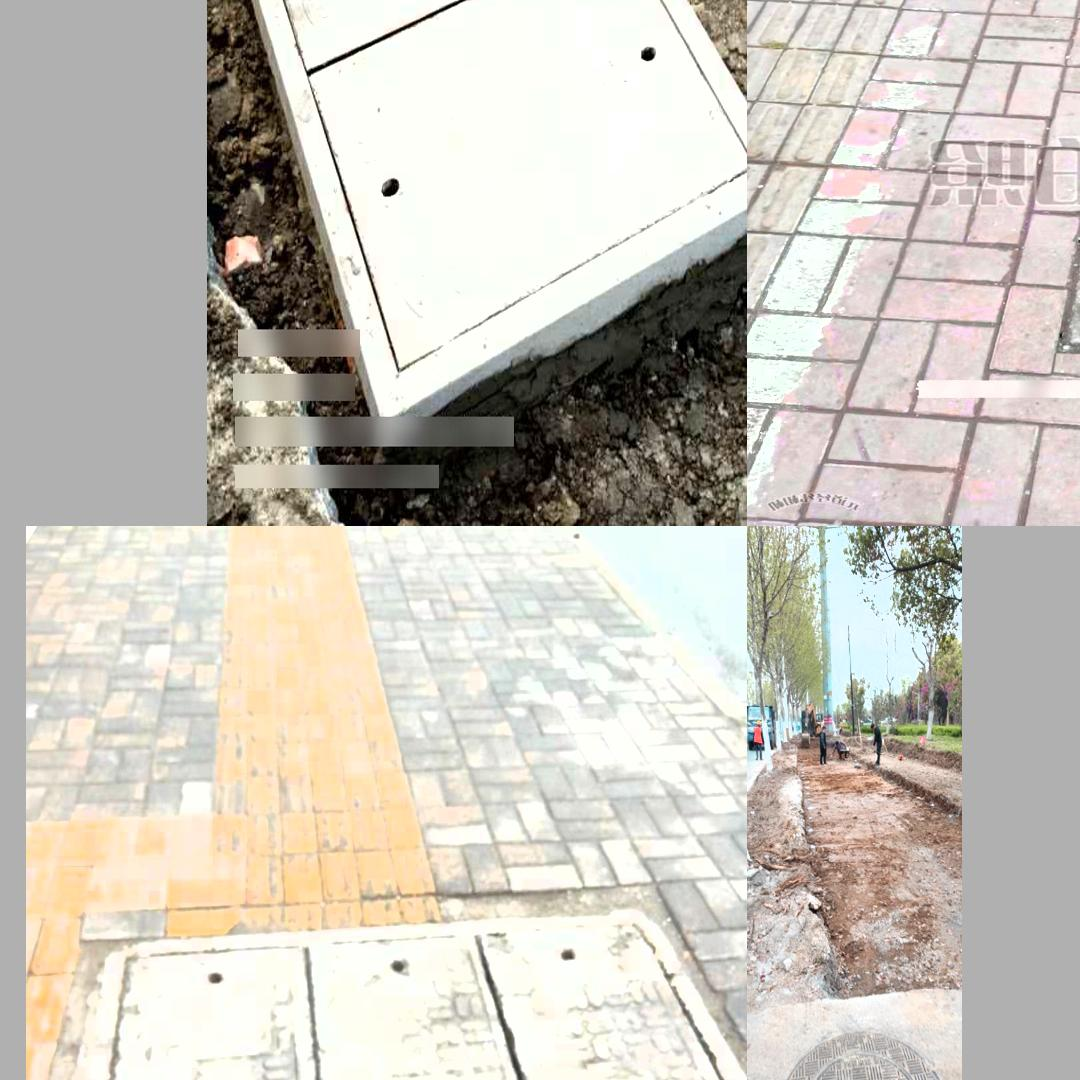good: (224, 0, 745, 416), (36, 892, 746, 1080), (765, 1022, 956, 1080), (1058, 108, 1080, 371)
